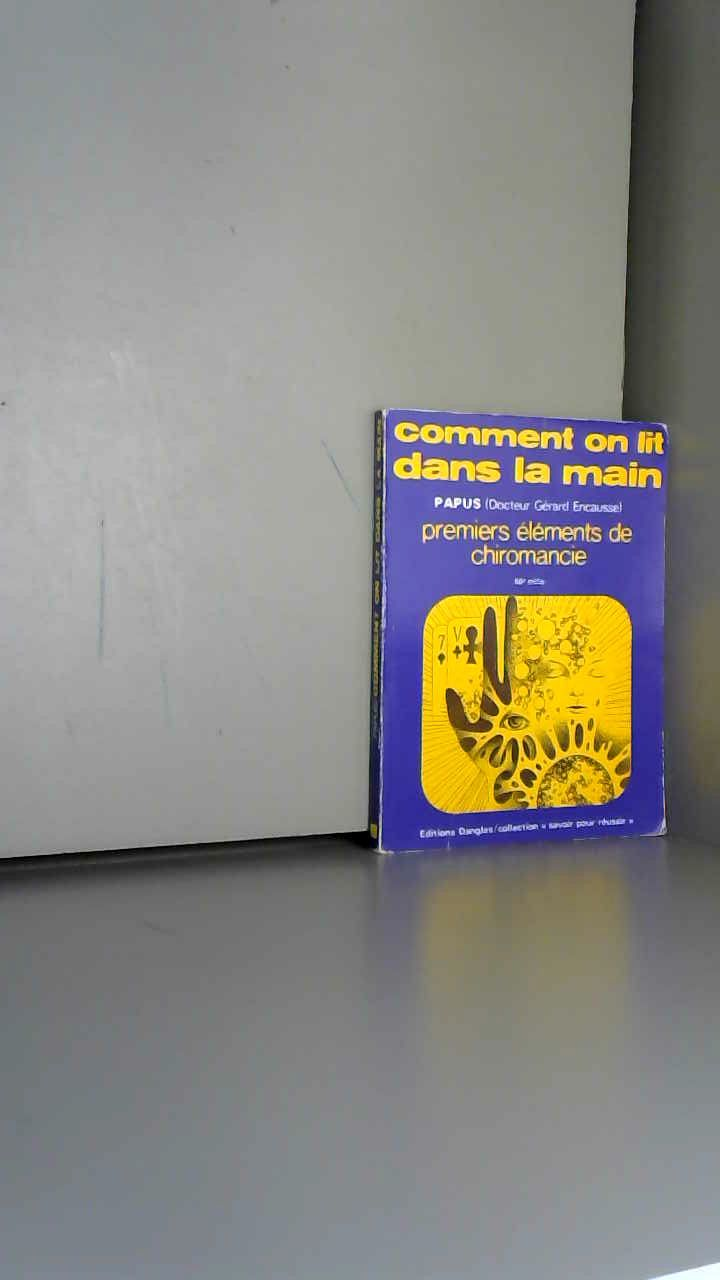book: (340, 380, 720, 885)
